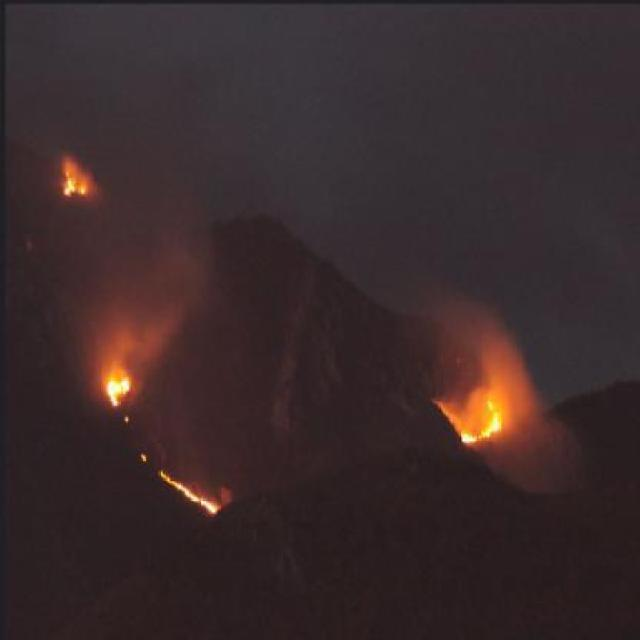Fire: (142, 452, 224, 516), (446, 395, 499, 443), (60, 164, 88, 196), (106, 373, 132, 404)
